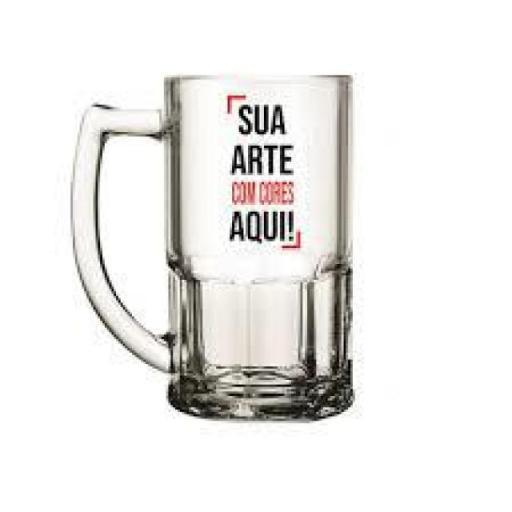glass: (52, 57, 379, 444)
